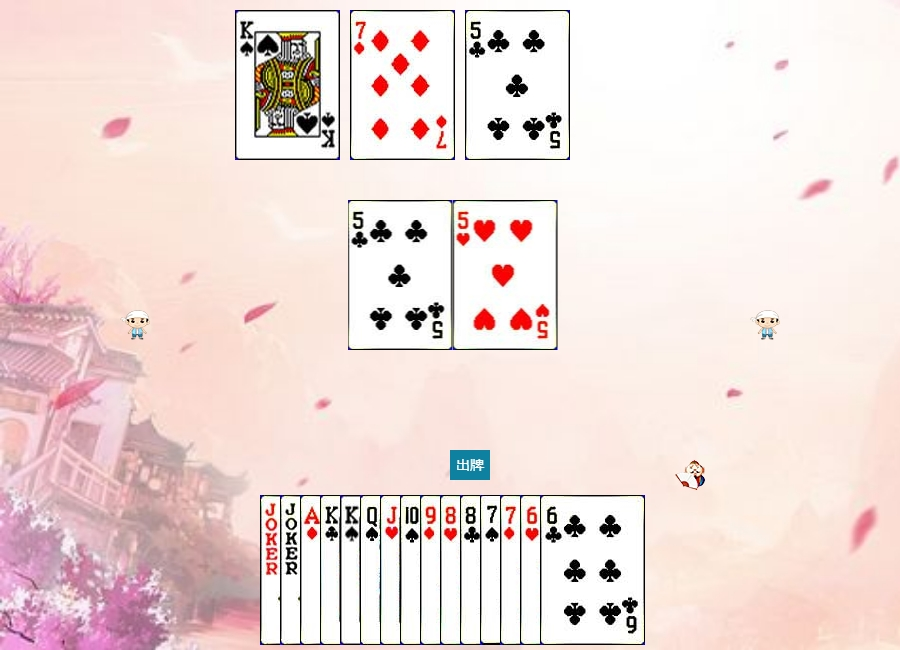10~4: (400, 495, 505, 645)
11~3: (380, 495, 485, 645)
12~4: (360, 495, 465, 645)
13~2: (320, 495, 425, 645)
13~4: (235, 10, 340, 160), (340, 495, 445, 645)
14~1: (300, 495, 405, 645)
17~3: (280, 495, 385, 645)
18~4: (260, 495, 365, 645)
5~2: (465, 10, 570, 160), (348, 200, 453, 350)
5~3: (453, 200, 558, 350)
6~2: (540, 495, 645, 645)
6~3: (520, 495, 625, 645)
7~1: (350, 10, 455, 160), (500, 495, 605, 645)
7~4: (480, 495, 585, 645)
8~2: (460, 495, 565, 645)
8~3: (440, 495, 545, 645)
9~1: (420, 495, 525, 645)
